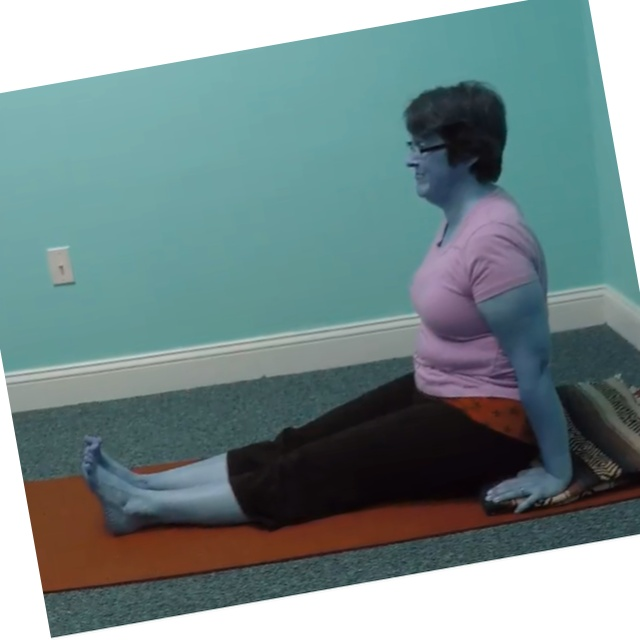Staff_Pose: (79, 77, 577, 542)
